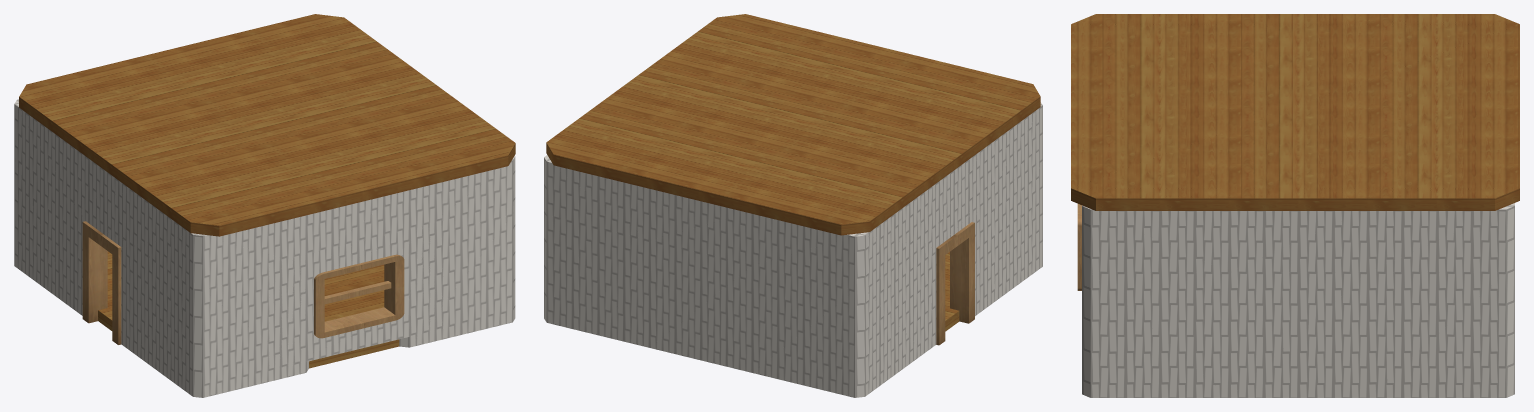
Rendered from kitchen-room.glb.
3 renders of one model, left to right at view 1: azimuth 30°, elevation 25°; view 2: azimuth 150°, elevation 25°; view 3: azimuth 270°, elevation 25°, orthographic. The views are drawn at different scales.
Visible parts, largest first — view 1: mergedBlocks(Clone); view 2: mergedBlocks(Clone); view 3: mergedBlocks(Clone).
Boxes of the visible parts, x1,y1,x2,y2 form: mergedBlocks(Clone): [14, 14, 515, 397]; mergedBlocks(Clone): [544, 14, 1042, 397]; mergedBlocks(Clone): [1071, 14, 1519, 397].
Size of the model in its own units: 3.18 by 1.6 by 3.24.
3 materials, 3 textured.
